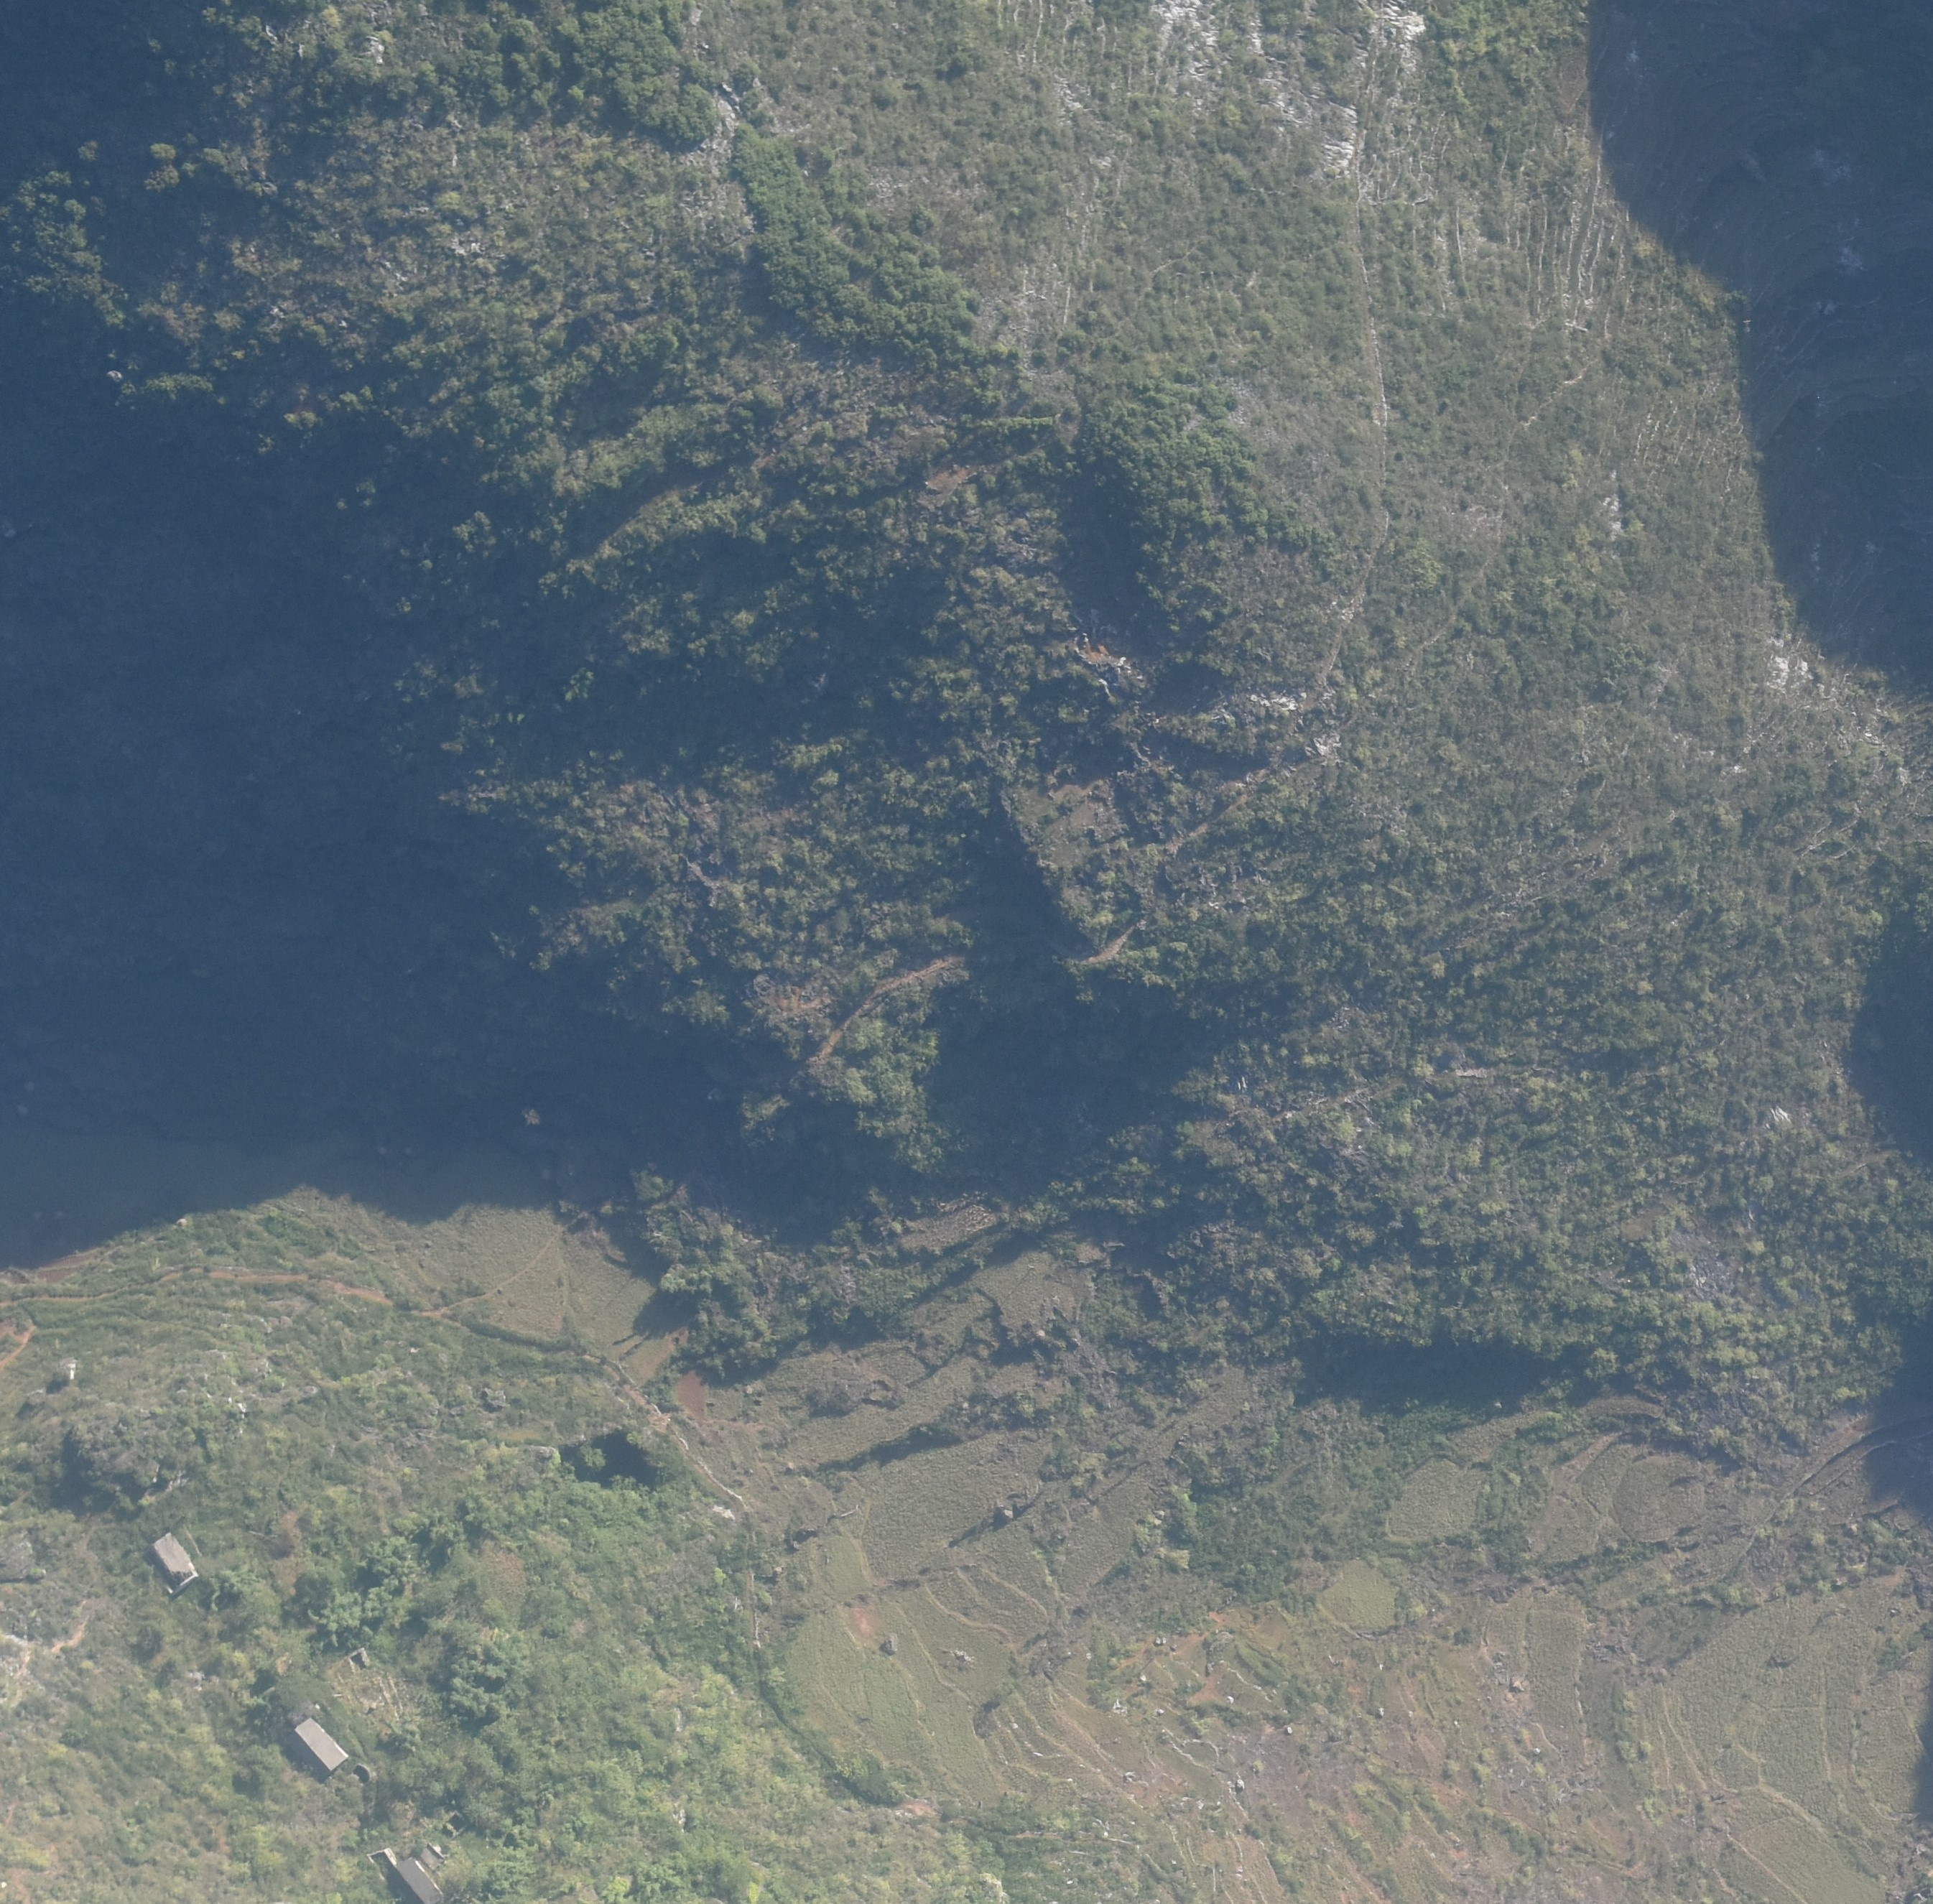building: (295, 1716, 345, 1770), (152, 1533, 195, 1594), (394, 1860, 441, 1904)
